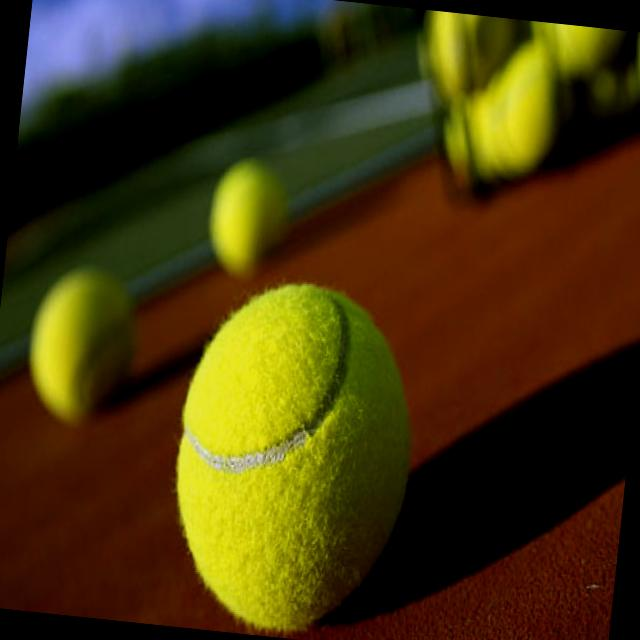Tennis Ball: (173, 282, 412, 632), (27, 266, 133, 431), (208, 157, 287, 277), (494, 53, 560, 168), (429, 10, 510, 94), (534, 21, 626, 68), (467, 82, 508, 178), (446, 101, 476, 184)
